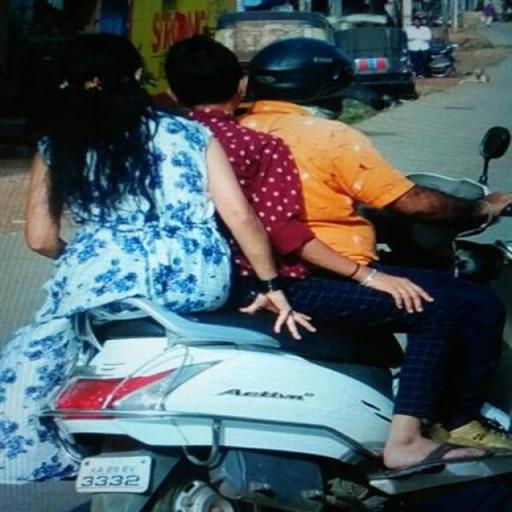tripple riding: (9, 24, 512, 310)
